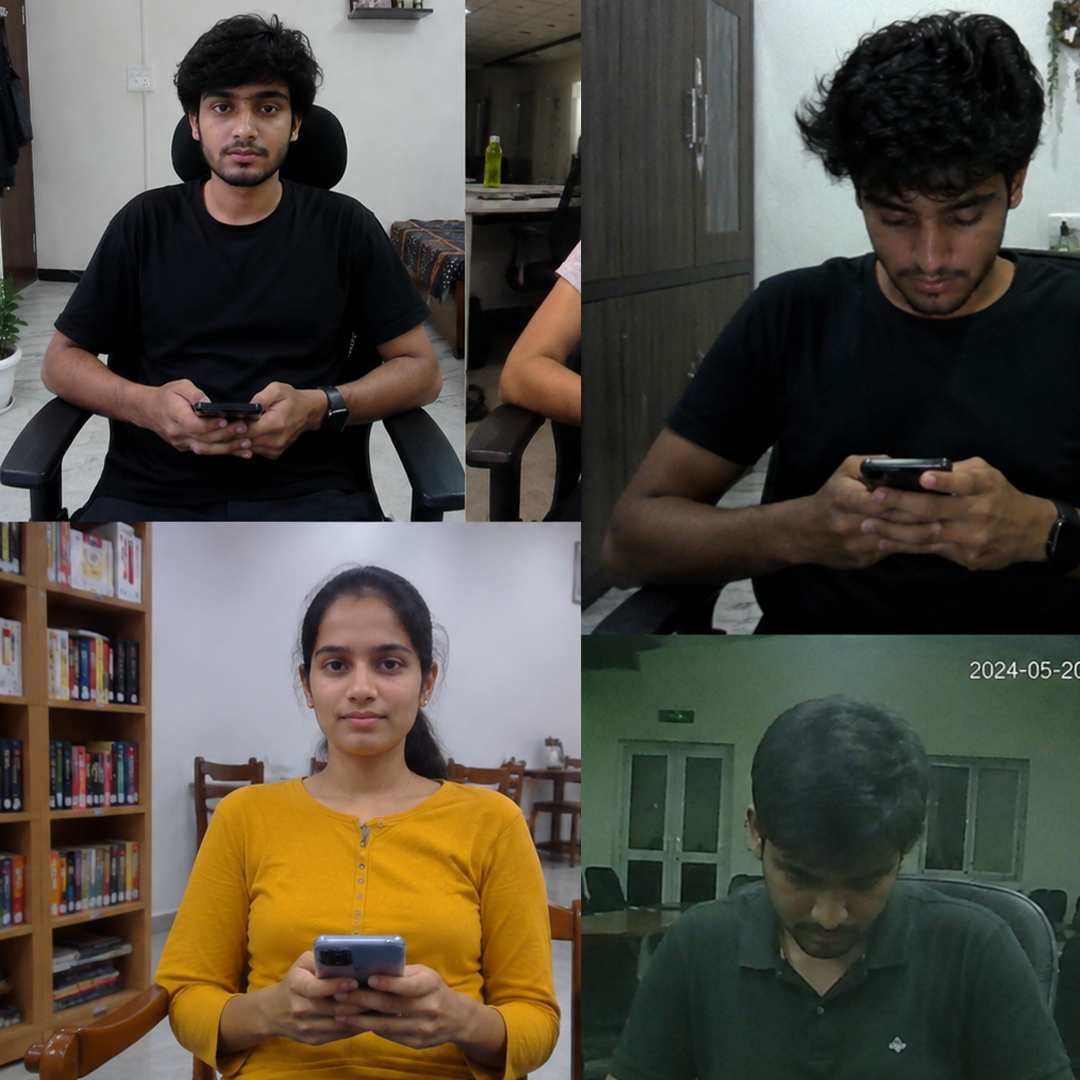Focused: (222, 571, 517, 1036), (92, 23, 429, 429)
distracted: (715, 50, 1053, 581), (679, 650, 968, 1080)
